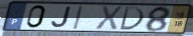0: (25, 4, 47, 29)
8: (144, 6, 172, 33)
D: (118, 6, 146, 32)
I: (72, 5, 85, 31)
J: (50, 6, 73, 29)
X: (94, 5, 124, 31)
